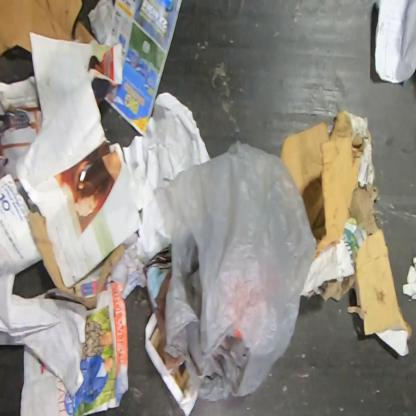cardboard: (281, 106, 414, 358), (26, 210, 126, 310), (0, 0, 101, 58), (401, 254, 415, 303)
soft_plastic: (150, 138, 316, 402)
